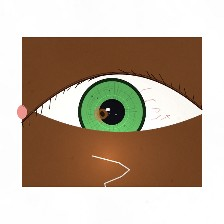foreign_body_visible: (88, 102, 117, 125)
